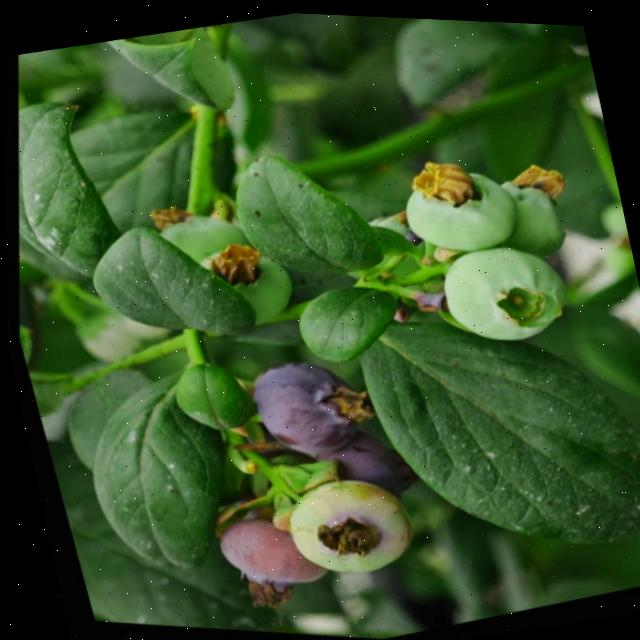RipeBlueBerry: (220, 328, 384, 487)
Semi-RipeBlueBerry: (189, 489, 343, 624)
UnripeBlueBerry: (411, 215, 588, 379), (255, 446, 431, 609), (378, 134, 539, 283)
